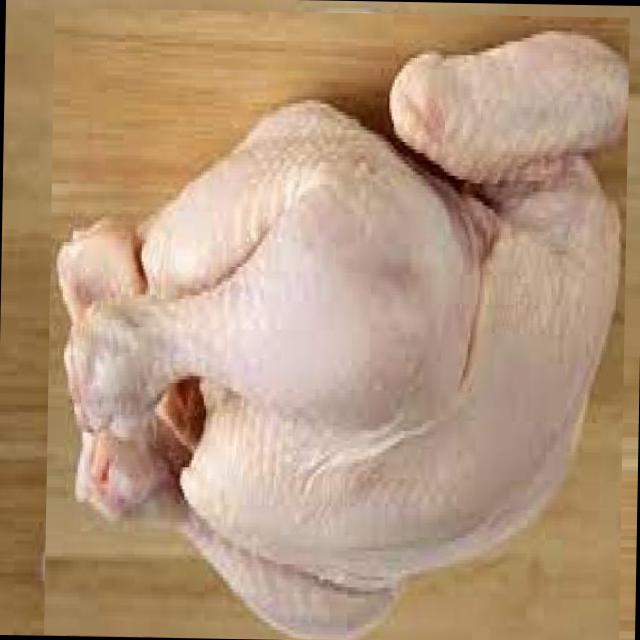chicken: (42, 7, 629, 640)
